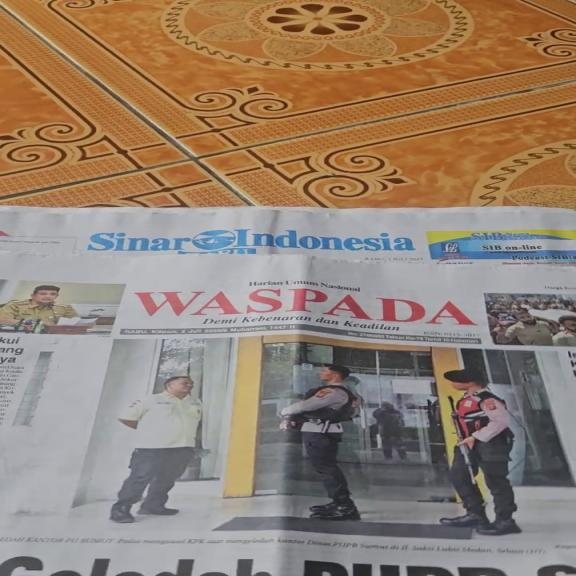Kertas: (5, 219, 561, 569)
